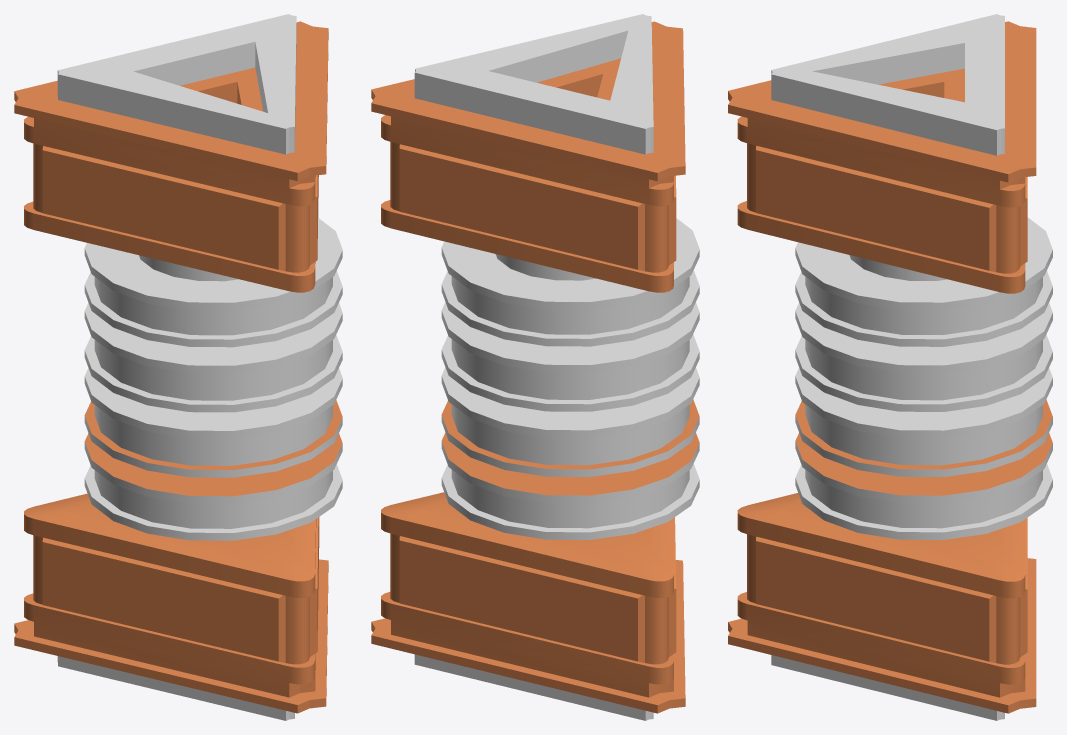
The model's file is battery_full.fbx.
The picture shows the model from 3 angles, left to right: view 1: azimuth 30°, elevation 25°; view 2: azimuth 150°, elevation 25°; view 3: azimuth 270°, elevation 25°; orthographic projection.
Parts seen in each view (by area): view 1: Plane; view 2: Plane; view 3: Plane.
Boxes of the visible parts, x1=… form: Plane: x1=14, y1=14, x2=342, y2=720; Plane: x1=371, y1=14, x2=699, y2=720; Plane: x1=728, y1=14, x2=1052, y2=720.
Size of the model in its own units: 204 by 366 by 183.
